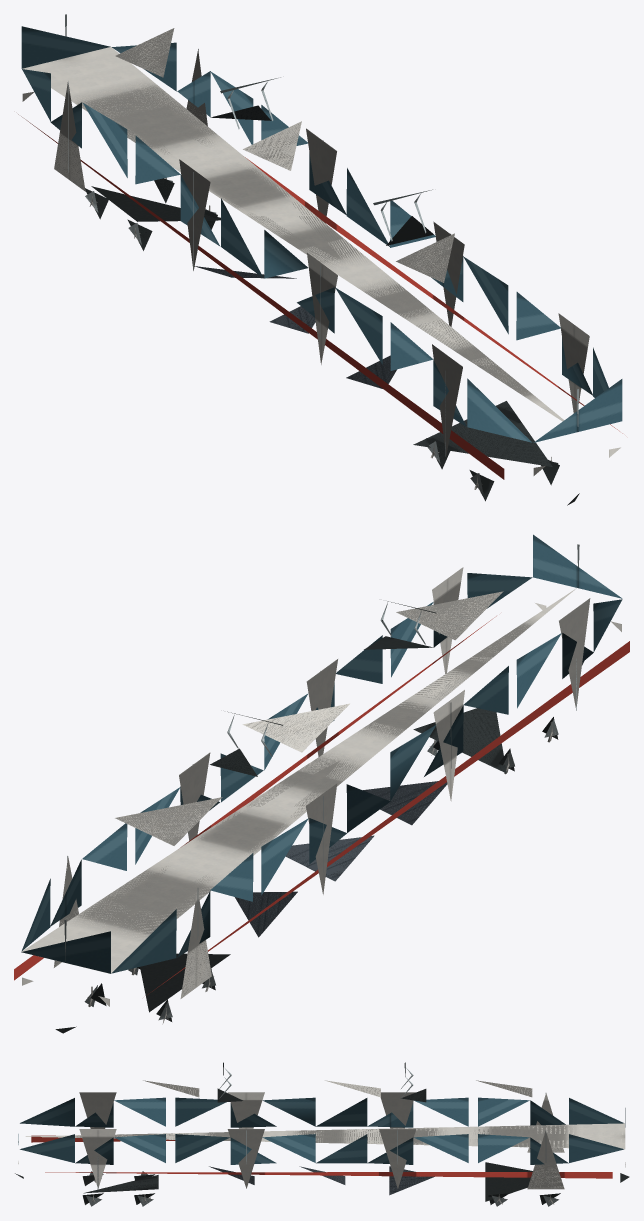
The model's file is commuter_002.lod2.obj.
3 renders of one model, top to bottom at view 1: azimuth 30°, elevation 25°; view 2: azimuth 150°, elevation 25°; view 3: azimuth 270°, elevation 25°, orthographic. The views are drawn at different scales.
Visible parts, largest first — view 1: commuter_002; view 2: commuter_002; view 3: commuter_002.
Part boxes in pixels (x1,y1,x2,y2): commuter_002: (18,14,622,505); commuter_002: (14,534,629,1033); commuter_002: (15,1062,629,1206).
Bounding box in the file's own units: 2.94 × 4.58 × 20.35.
1 material, 1 textured.
